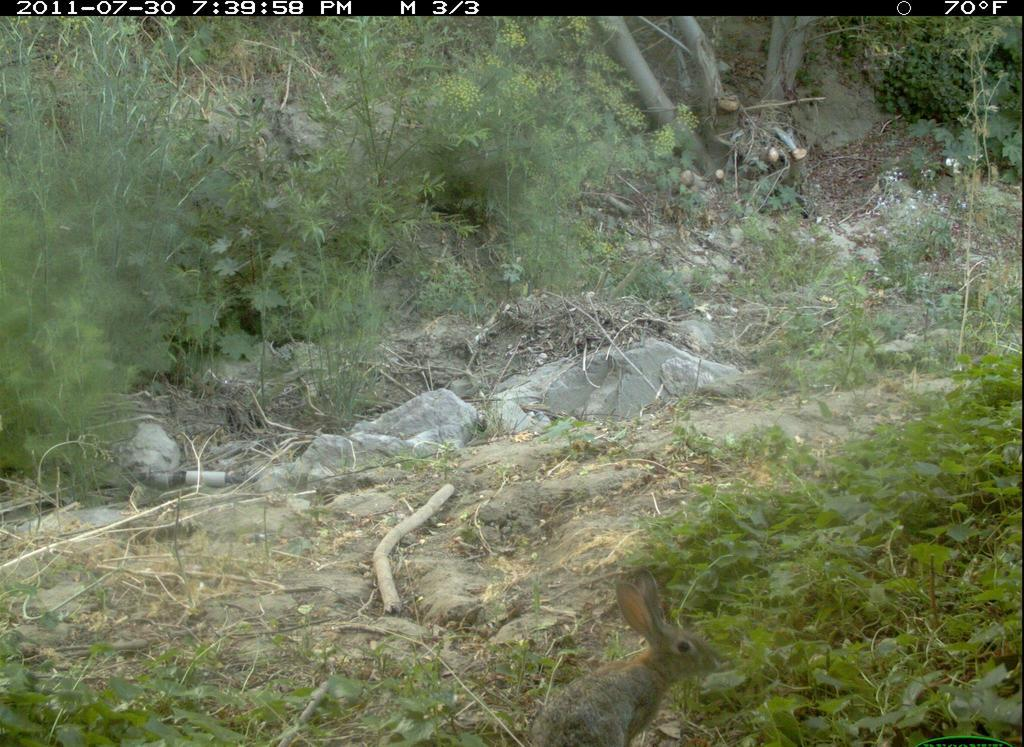rabbit: (527, 562, 725, 740)
